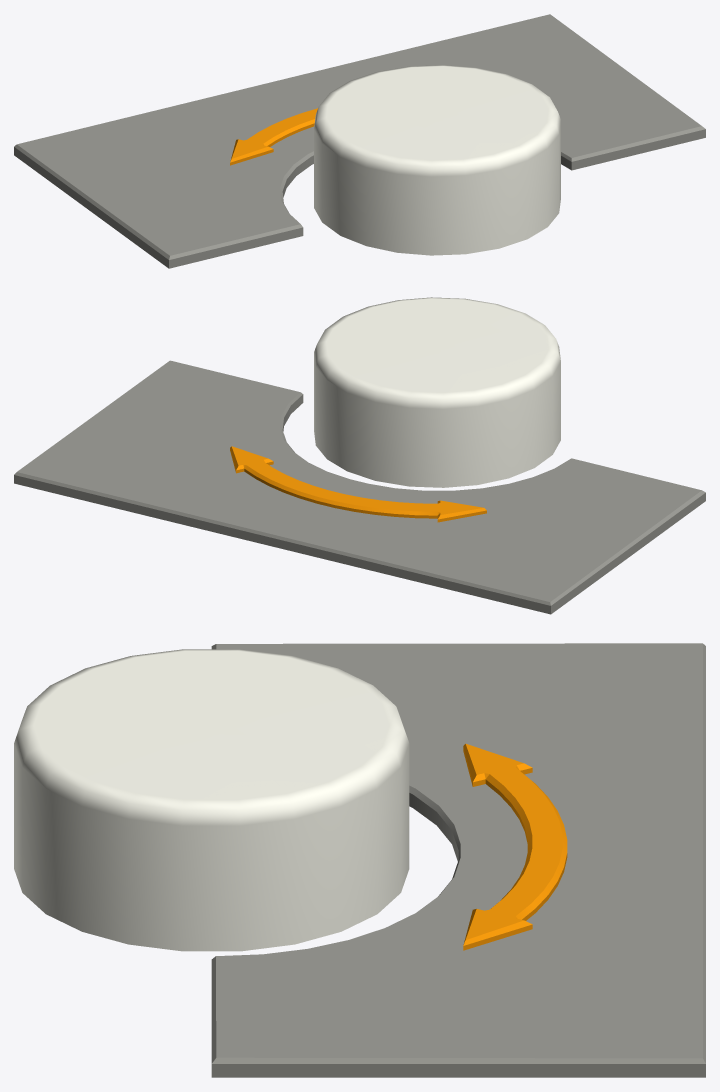
The model's file is Knob #2.fbx.
The picture shows the model from 3 angles, top to bottom: view 1: azimuth 30°, elevation 25°; view 2: azimuth 150°, elevation 25°; view 3: azimuth 270°, elevation 25°; orthographic projection. The views are drawn at different scales.
Visible parts, largest first — view 1: kitbash_22; view 2: kitbash_22; view 3: kitbash_22.
Part boxes in pixels (bbox=[...]): kitbash_22: bbox=[14, 14, 705, 268]; kitbash_22: bbox=[14, 297, 705, 614]; kitbash_22: bbox=[14, 643, 705, 1077].
Size of the model in its own units: 17.41 by 2.79 by 12.19.
